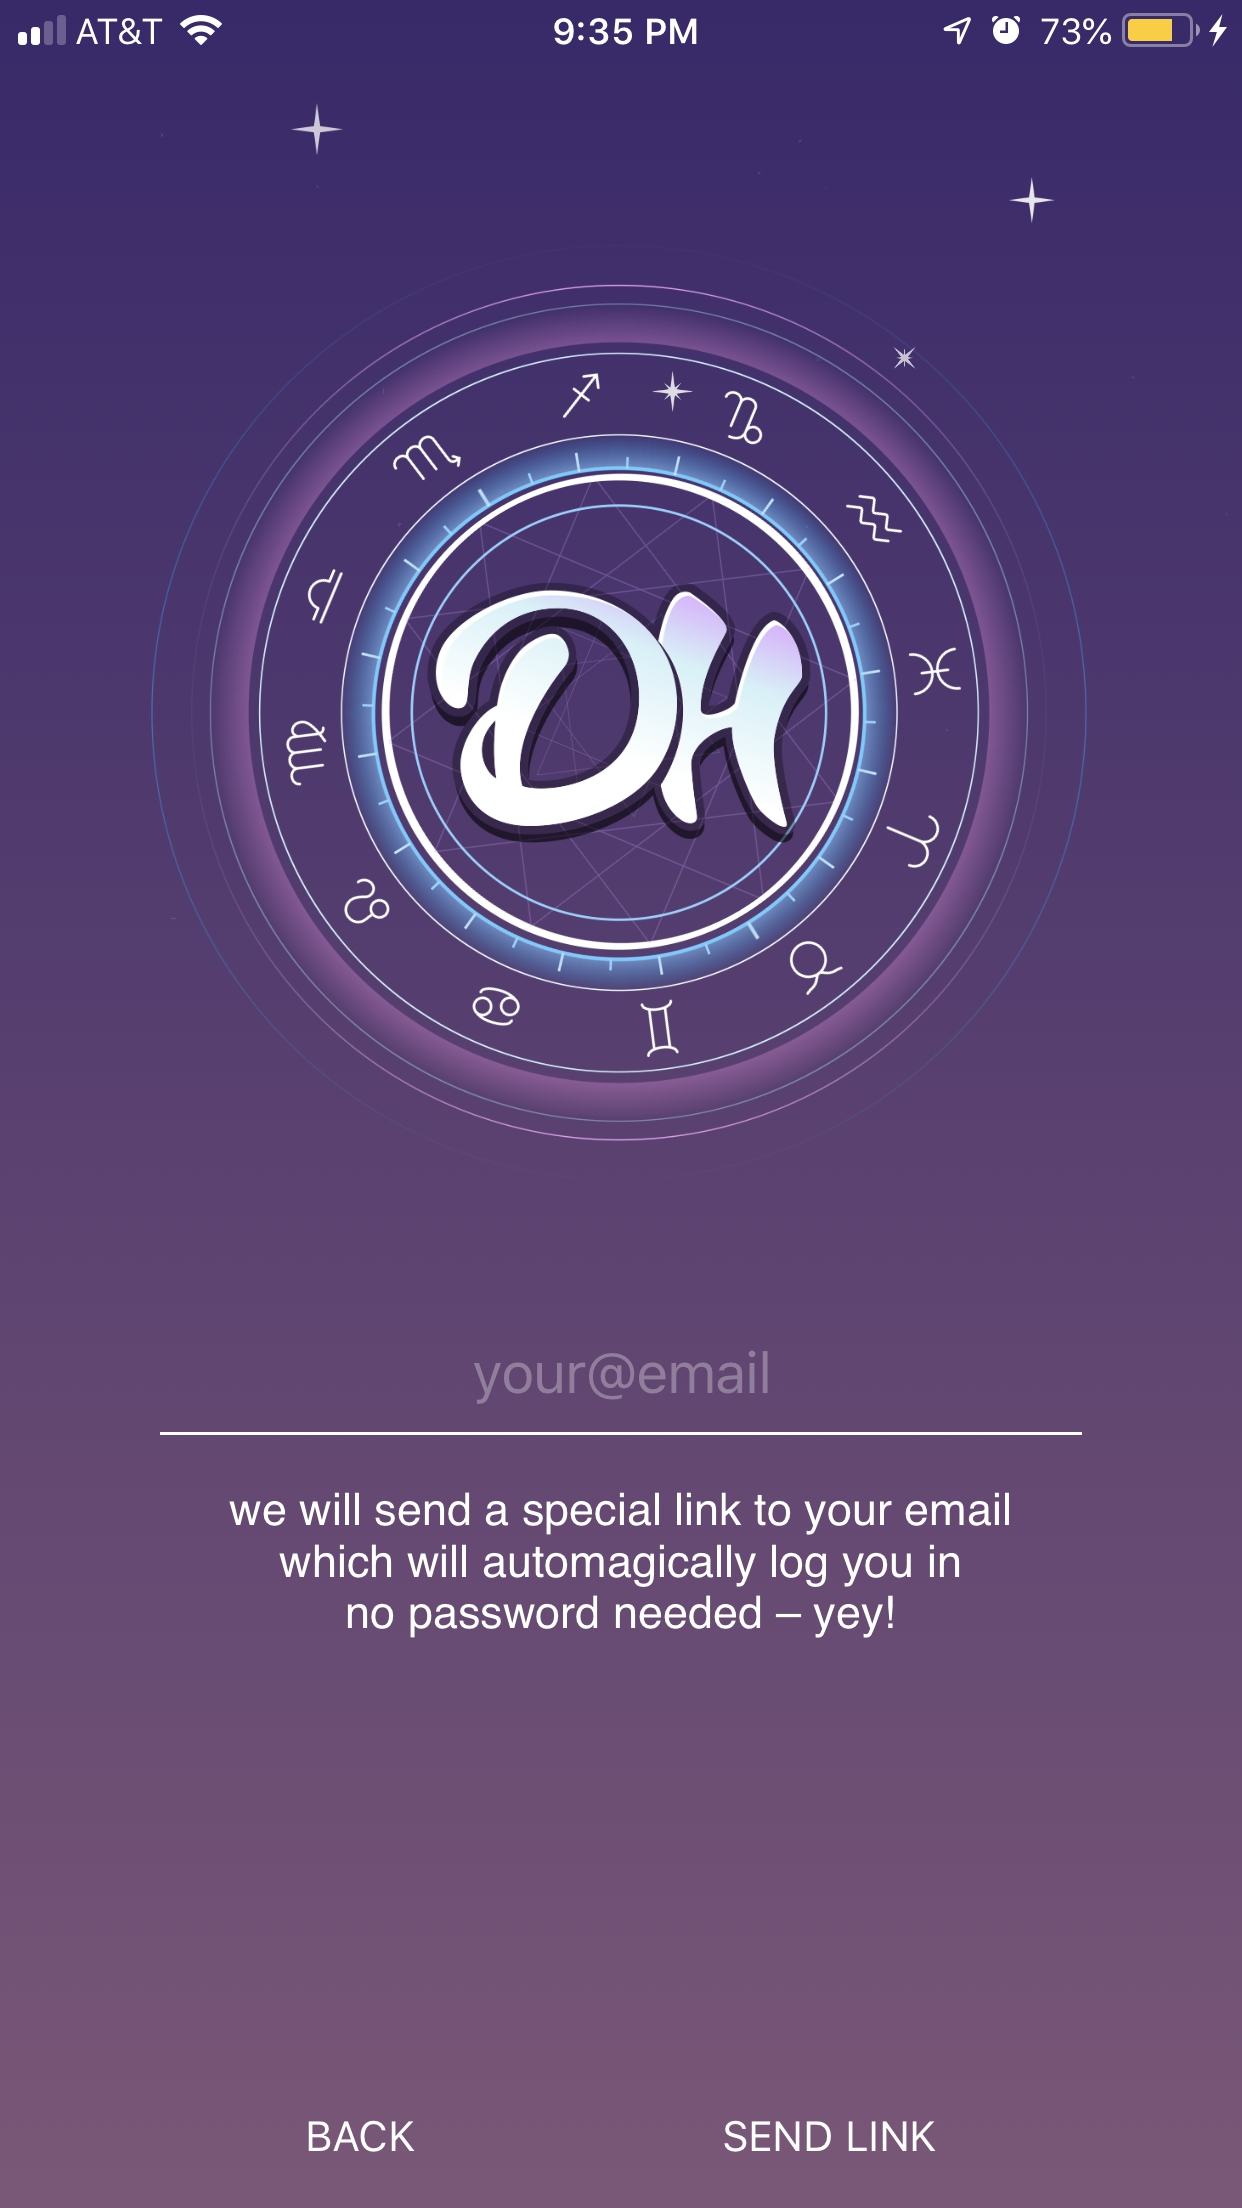EditText: (161, 1350, 1083, 1438)
Image: (147, 240, 1090, 1186)
Text: (227, 1491, 1011, 1639), (475, 1350, 770, 1404), (723, 2120, 936, 2153), (308, 2120, 417, 2153)
UpperTaskBar: (2, 2, 1242, 49)
